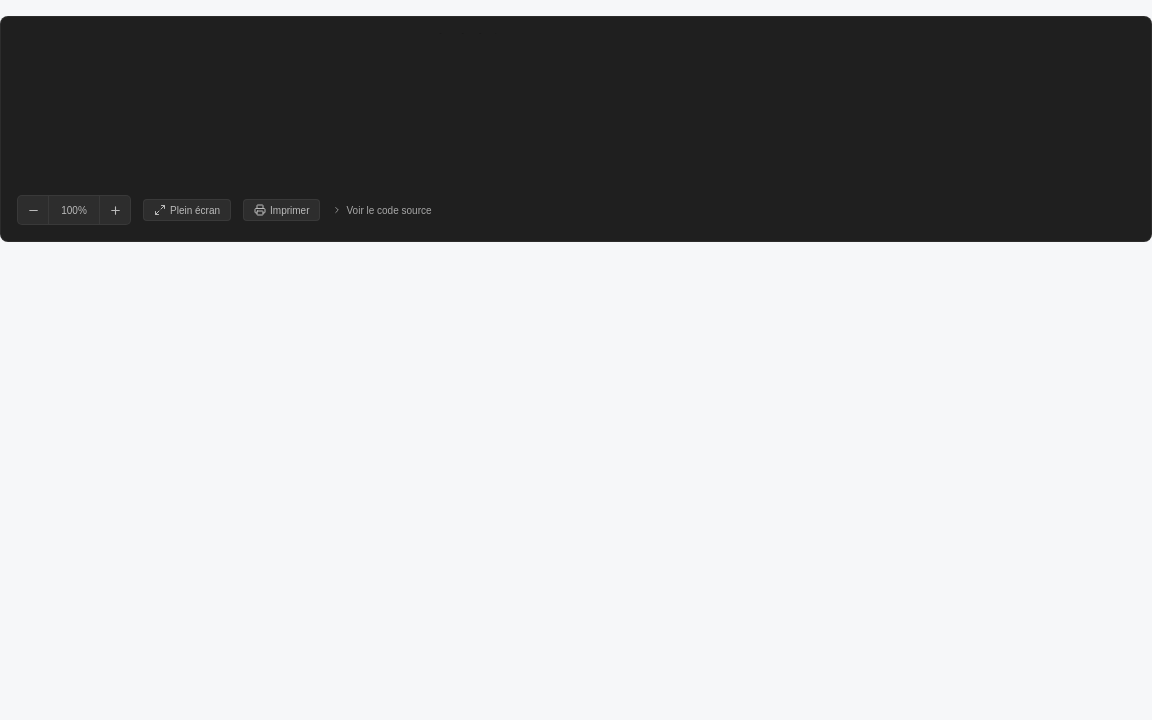
MermaidDiagram (0.8.3 #289) › Fullscreen button opens overlay; Escape closes it
Click the button "Plein écran" at (187, 210), box [143,199,231,221]
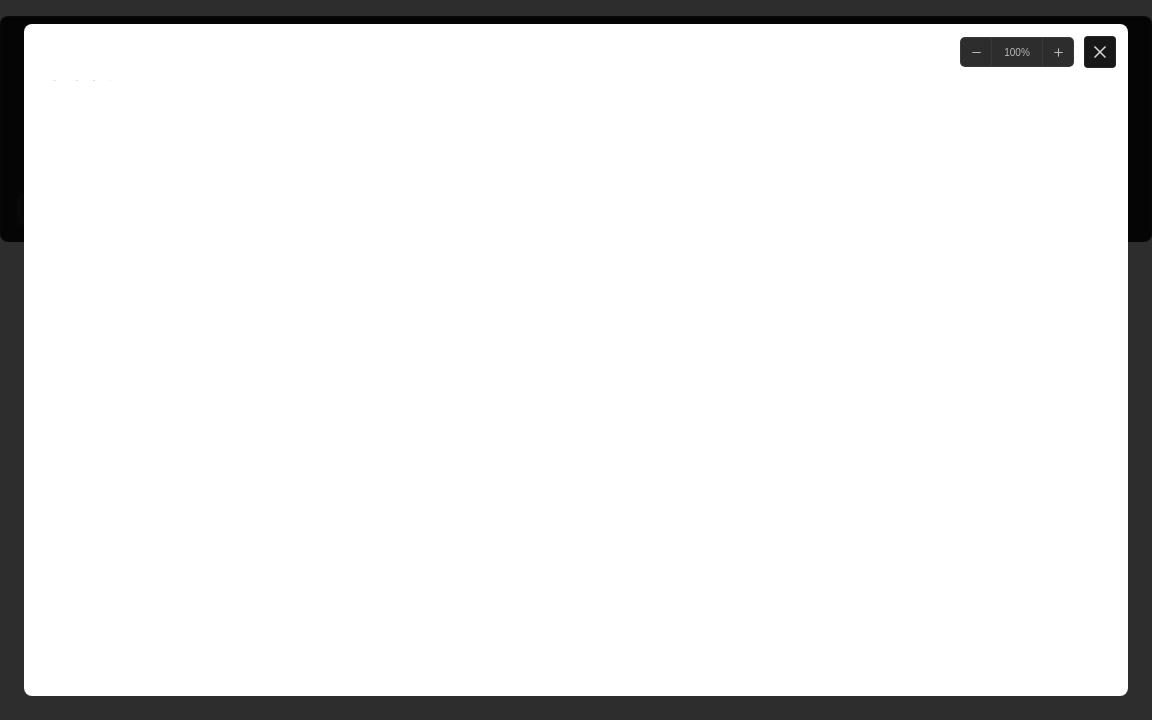
Expected: the dialog with class "kronn-mermaid-fullscreen-overlay" is shown
Note: Escape closes.
Press Escape
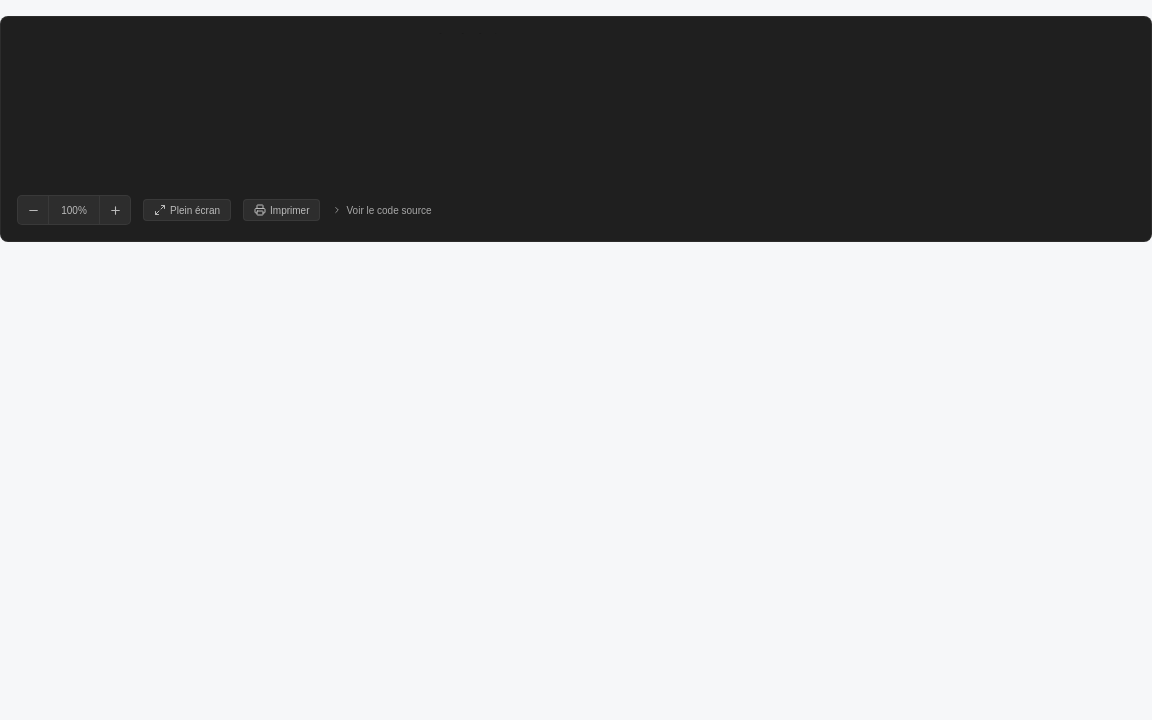
Expected: the dialog with class "kronn-mermaid-fullscreen-overlay" is gone
